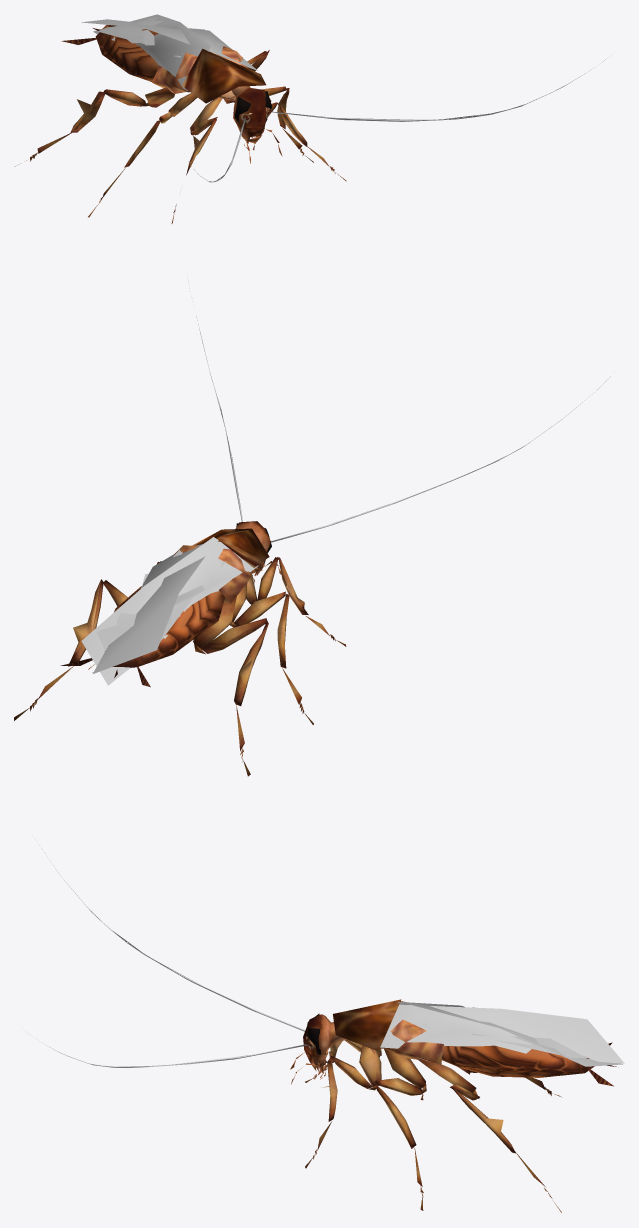
The model's file is cockroachLowPoly.fbx.
3 views of the same model, one above another, from view 1: azimuth 30°, elevation 25°; view 2: azimuth 150°, elevation 25°; view 3: azimuth 270°, elevation 25° (orthographic).
Parts seen in each view (by area): view 1: Body, R_mesothorax, Head, R_hindleg, L_mesothorax, R_forleg, R_midleg, L_antena, L_midleg, L_forleg, R_wing01; view 2: Body, R_mesothorax, L_mesothorax, R_hindleg, R_midleg, L_hindleg, R_forleg; view 3: L_mesothorax, Body, L_midleg, L_forleg, L_hindleg, Head, R_mesothorax.
Part boxes in pixels (bbox=[...]): Body: bbox=[61, 25, 265, 103]; R_mesothorax: bbox=[93, 14, 210, 90]; Head: bbox=[231, 86, 282, 163]; R_hindleg: bbox=[14, 87, 174, 166]; L_mesothorax: bbox=[81, 19, 257, 70]; R_forleg: bbox=[171, 98, 221, 223]; R_midleg: bbox=[88, 93, 197, 217]; L_antena: bbox=[272, 59, 605, 121]; L_midleg: bbox=[224, 86, 313, 162]; L_forleg: bbox=[267, 102, 346, 181]; R_wing01: bbox=[97, 20, 182, 54]; Body: bbox=[60, 528, 269, 687]; R_mesothorax: bbox=[81, 537, 257, 685]; L_mesothorax: bbox=[93, 544, 205, 673]; R_hindleg: bbox=[193, 596, 268, 776]; R_midleg: bbox=[230, 583, 313, 724]; L_hindleg: bbox=[14, 579, 127, 720]; R_forleg: bbox=[246, 557, 346, 646]; L_mesothorax: bbox=[380, 1004, 624, 1063]; Body: bbox=[333, 999, 618, 1086]; L_midleg: bbox=[375, 1049, 426, 1210]; L_forleg: bbox=[305, 1045, 381, 1168]; L_hindleg: bbox=[417, 1058, 561, 1212]; Head: bbox=[290, 1013, 346, 1084]; R_mesothorax: bbox=[397, 1002, 622, 1066].
Size of the model in its own units: 0.0837 by 0.044 by 0.1.
